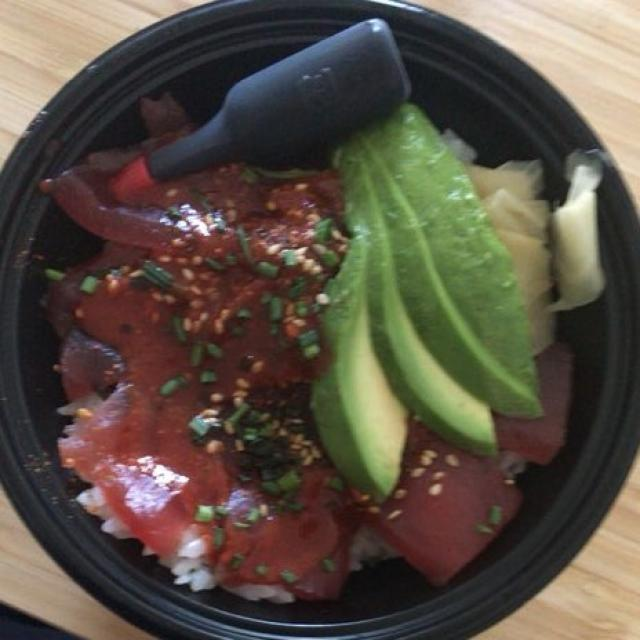avocado: (330, 102, 530, 496)
sauce: (162, 21, 406, 174)
tuna: (54, 166, 558, 595)
